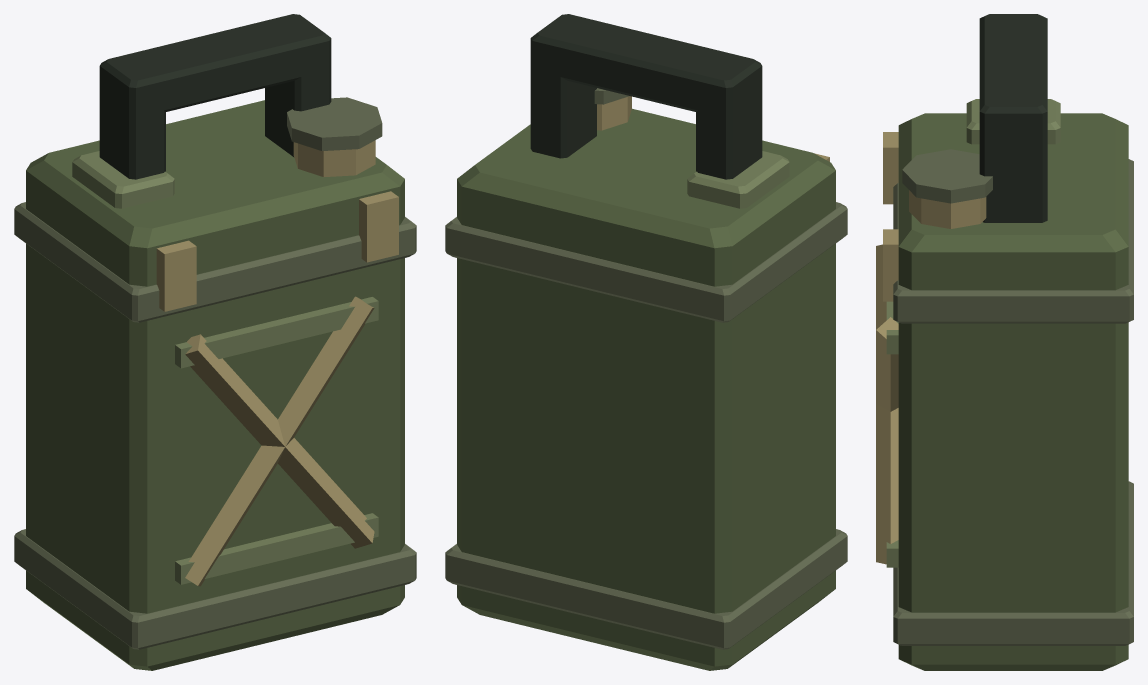
File: pickup_fuel.obj
3 renders of one model, left to right at view 1: azimuth 30°, elevation 25°; view 2: azimuth 150°, elevation 25°; view 3: azimuth 270°, elevation 25°, orthographic.
Visible parts, largest first — view 1: Body; view 2: Body; view 3: Body.
Boxes of the visible parts, left/top/right/bottom form: Body: left=14, top=14, right=416, bottom=670; Body: left=445, top=14, right=847, bottom=670; Body: left=876, top=14, right=1133, bottom=670.
Bounding box in the file's own units: 0.62 × 1.16 × 0.493.
Materials: 1 (1 with a texture image).
